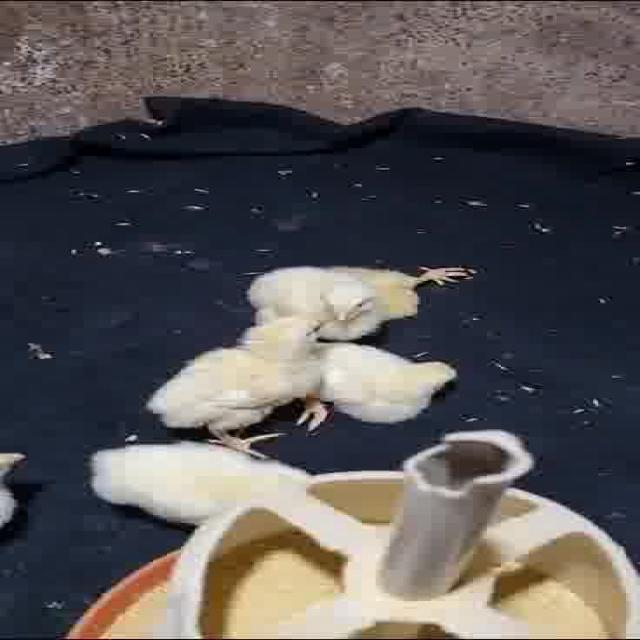poussin: (135, 310, 339, 449), (89, 426, 305, 518), (236, 256, 482, 328), (300, 334, 478, 432)
